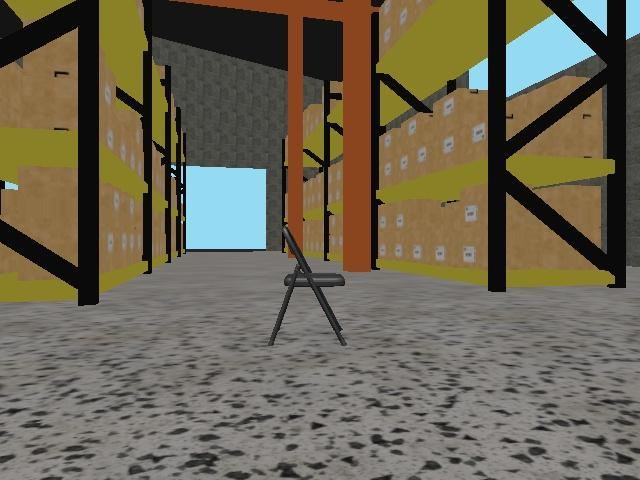chair: (266, 223, 349, 349)
